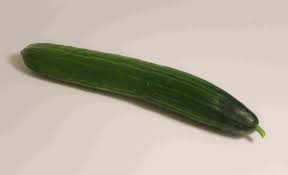cucumber: (21, 41, 267, 147)
